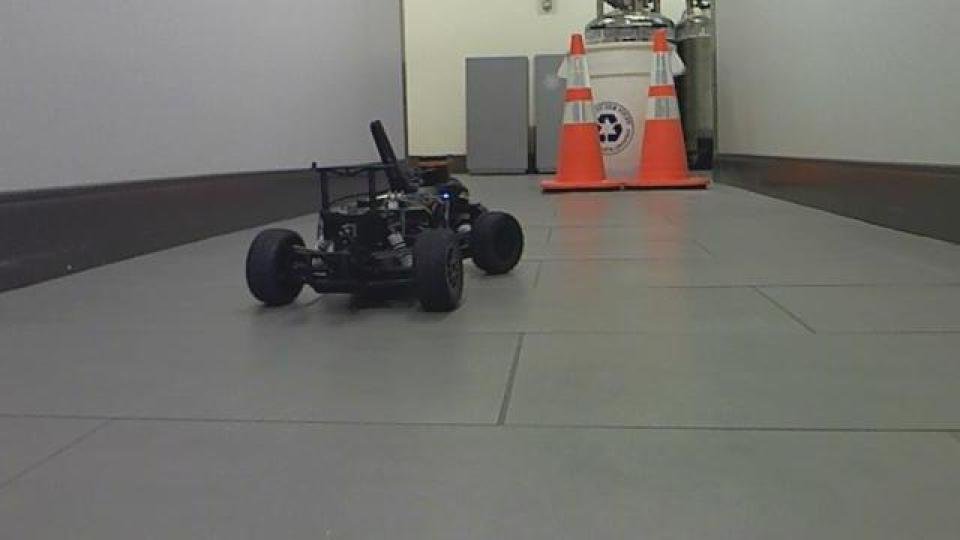car: (242, 117, 526, 317)
